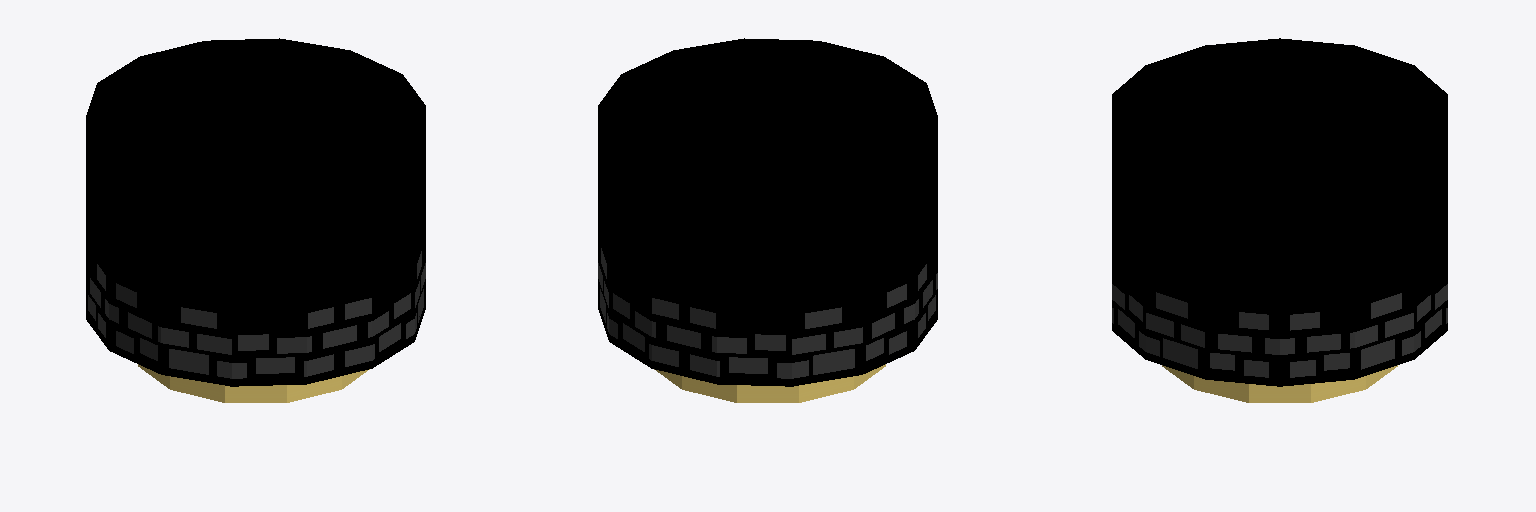
3 views of the same model, side by side, from view 1: azimuth 30°, elevation 25°; view 2: azimuth 150°, elevation 25°; view 3: azimuth 270°, elevation 25° (orthographic).
Parts seen in each view (by area): view 1: cylinder; view 2: cylinder; view 3: cylinder.
Boxes of the visible parts, box(x1,y1,x2,y2) form: cylinder: box(86, 38, 425, 402); cylinder: box(598, 38, 937, 402); cylinder: box(1112, 38, 1447, 402).
Bounding box in the file's own units: 4.87 × 4.62 × 4.81.
1 materials, 1 textured.